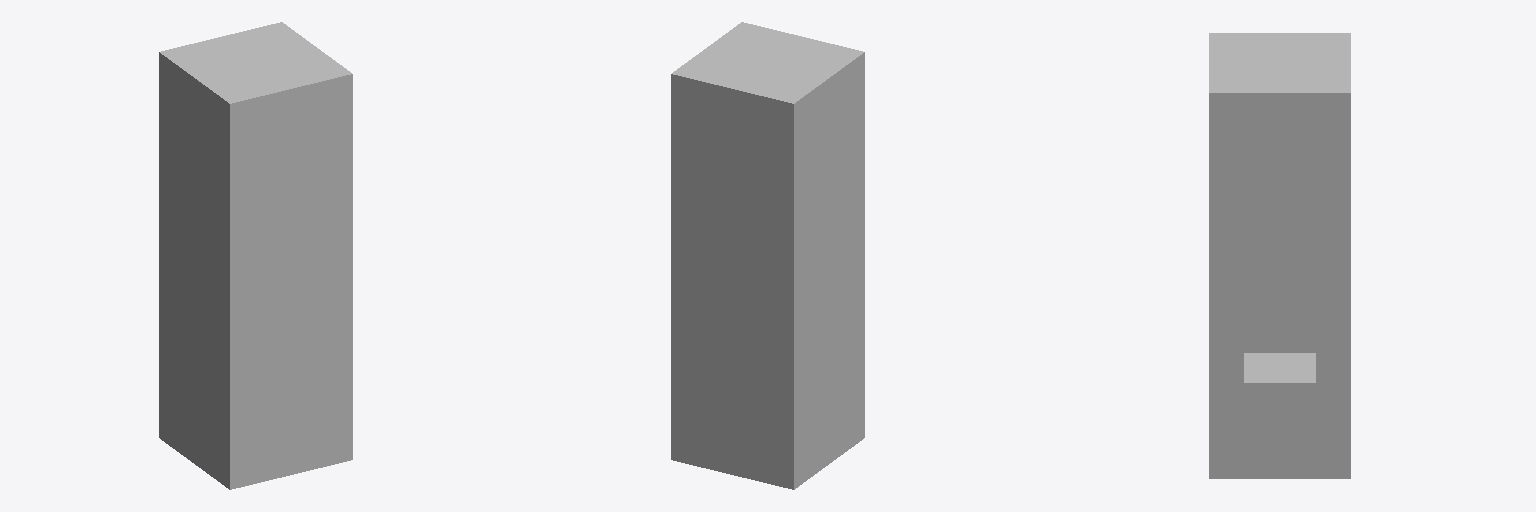
Rendered from TestObj.obj.
3 views of the same model, side by side, from view 1: azimuth 30°, elevation 25°; view 2: azimuth 150°, elevation 25°; view 3: azimuth 270°, elevation 25° (orthographic).
Parts seen in each view (by area): view 1: Cube; view 2: Cube; view 3: Cube.
Part boxes in pixels (left/top/right/bottom): Cube: left=159, top=22, right=352, bottom=489; Cube: left=671, top=22, right=864, bottom=489; Cube: left=1209, top=33, right=1350, bottom=478.
Size of the model in its own units: 1 by 3 by 1.